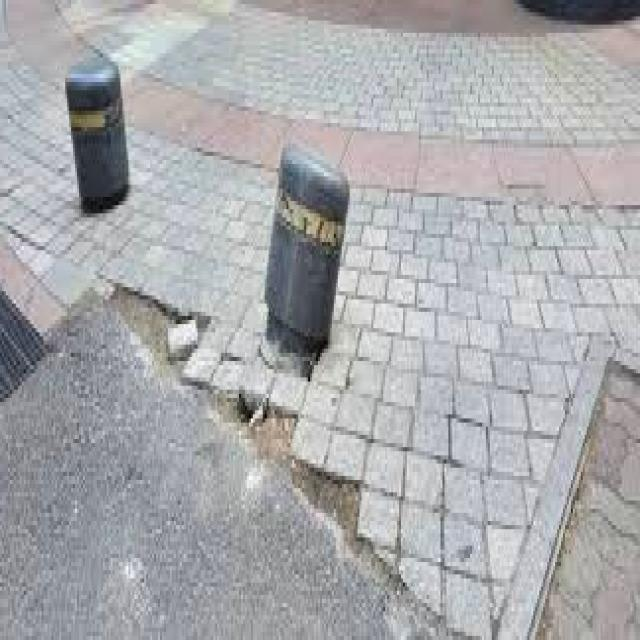bollard: (258, 146, 356, 372), (63, 46, 136, 222)
